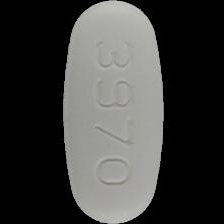0591-5215: (0, 0, 224, 224)
